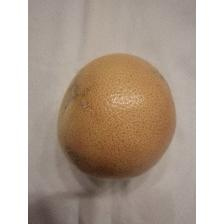Pampelmuse: (57, 52, 179, 184)
